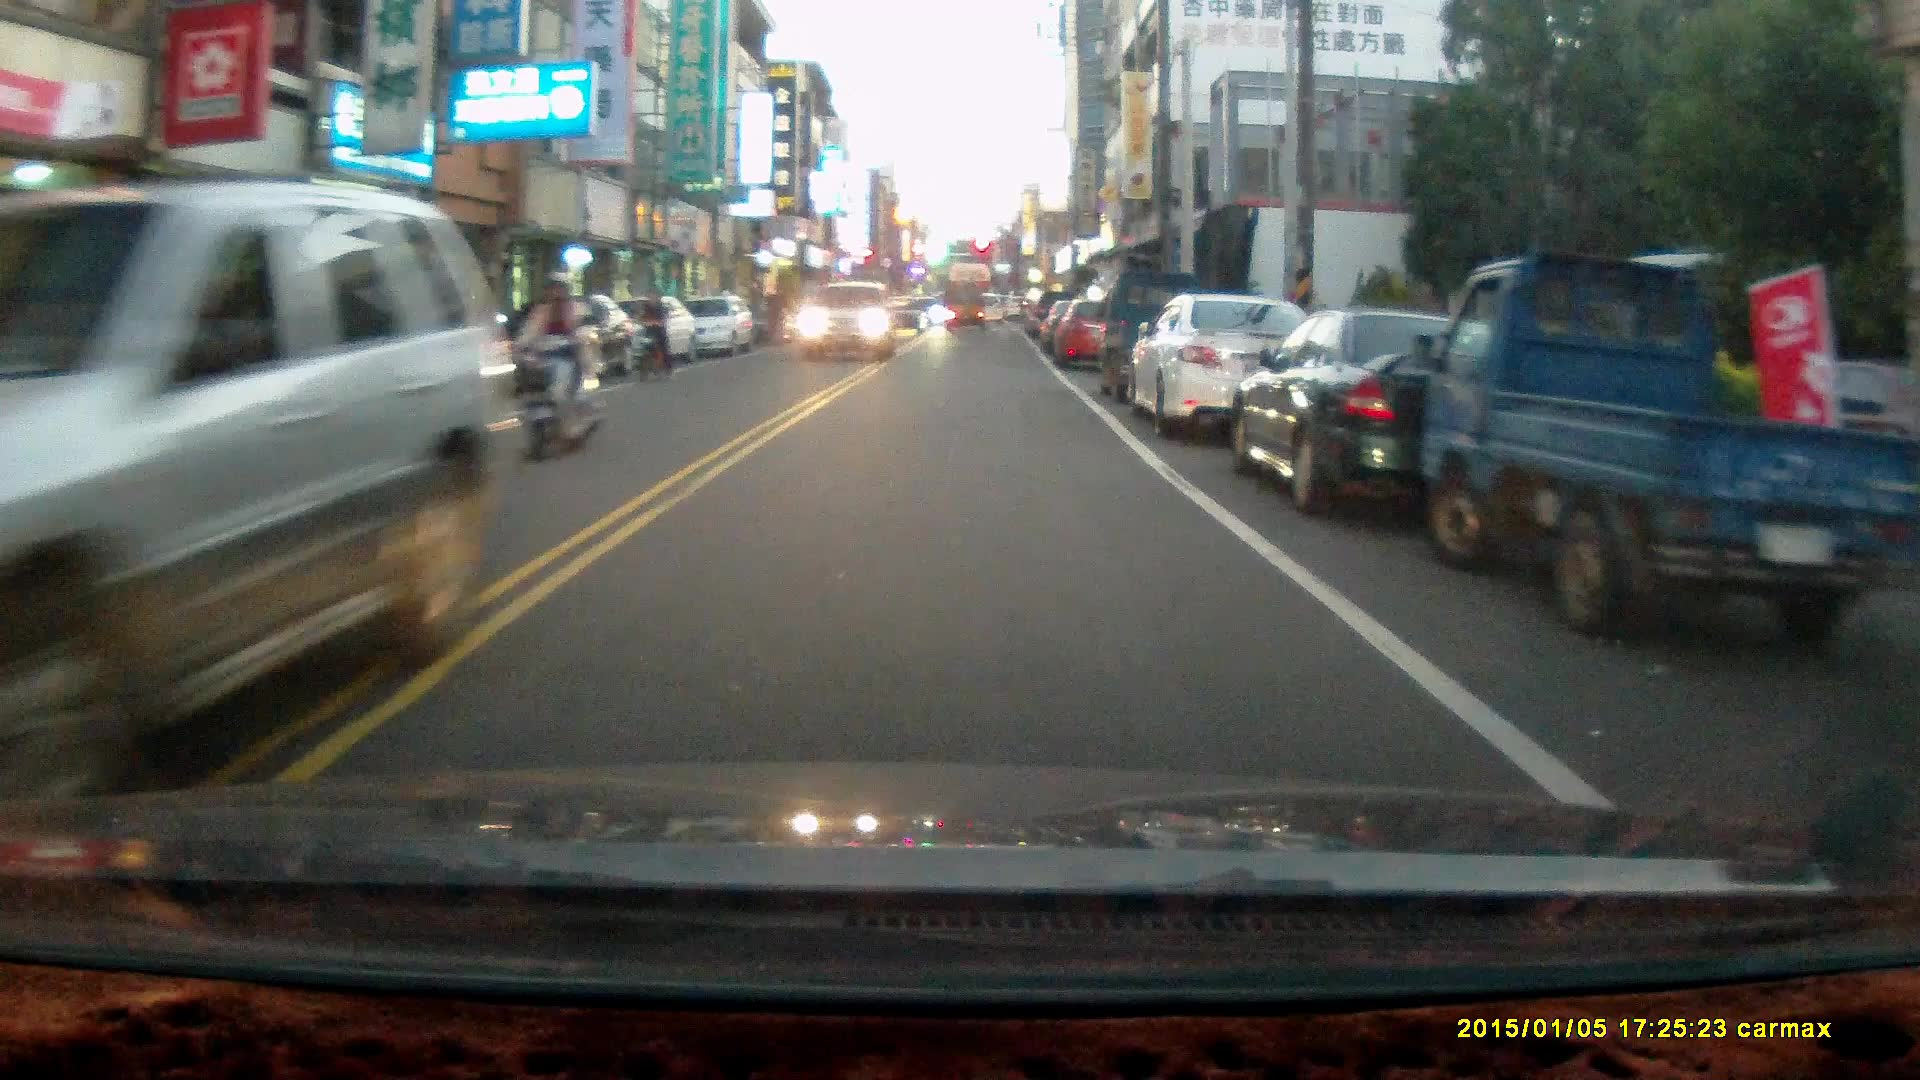pedestrian: (766, 281, 788, 342)
rider: (516, 269, 602, 462), (633, 288, 675, 379)
vehicle: (1420, 250, 1901, 642), (1234, 313, 1620, 530), (1130, 294, 1327, 446), (795, 281, 896, 361), (1055, 299, 1139, 374), (684, 295, 763, 363), (884, 295, 934, 340), (946, 283, 987, 334)
